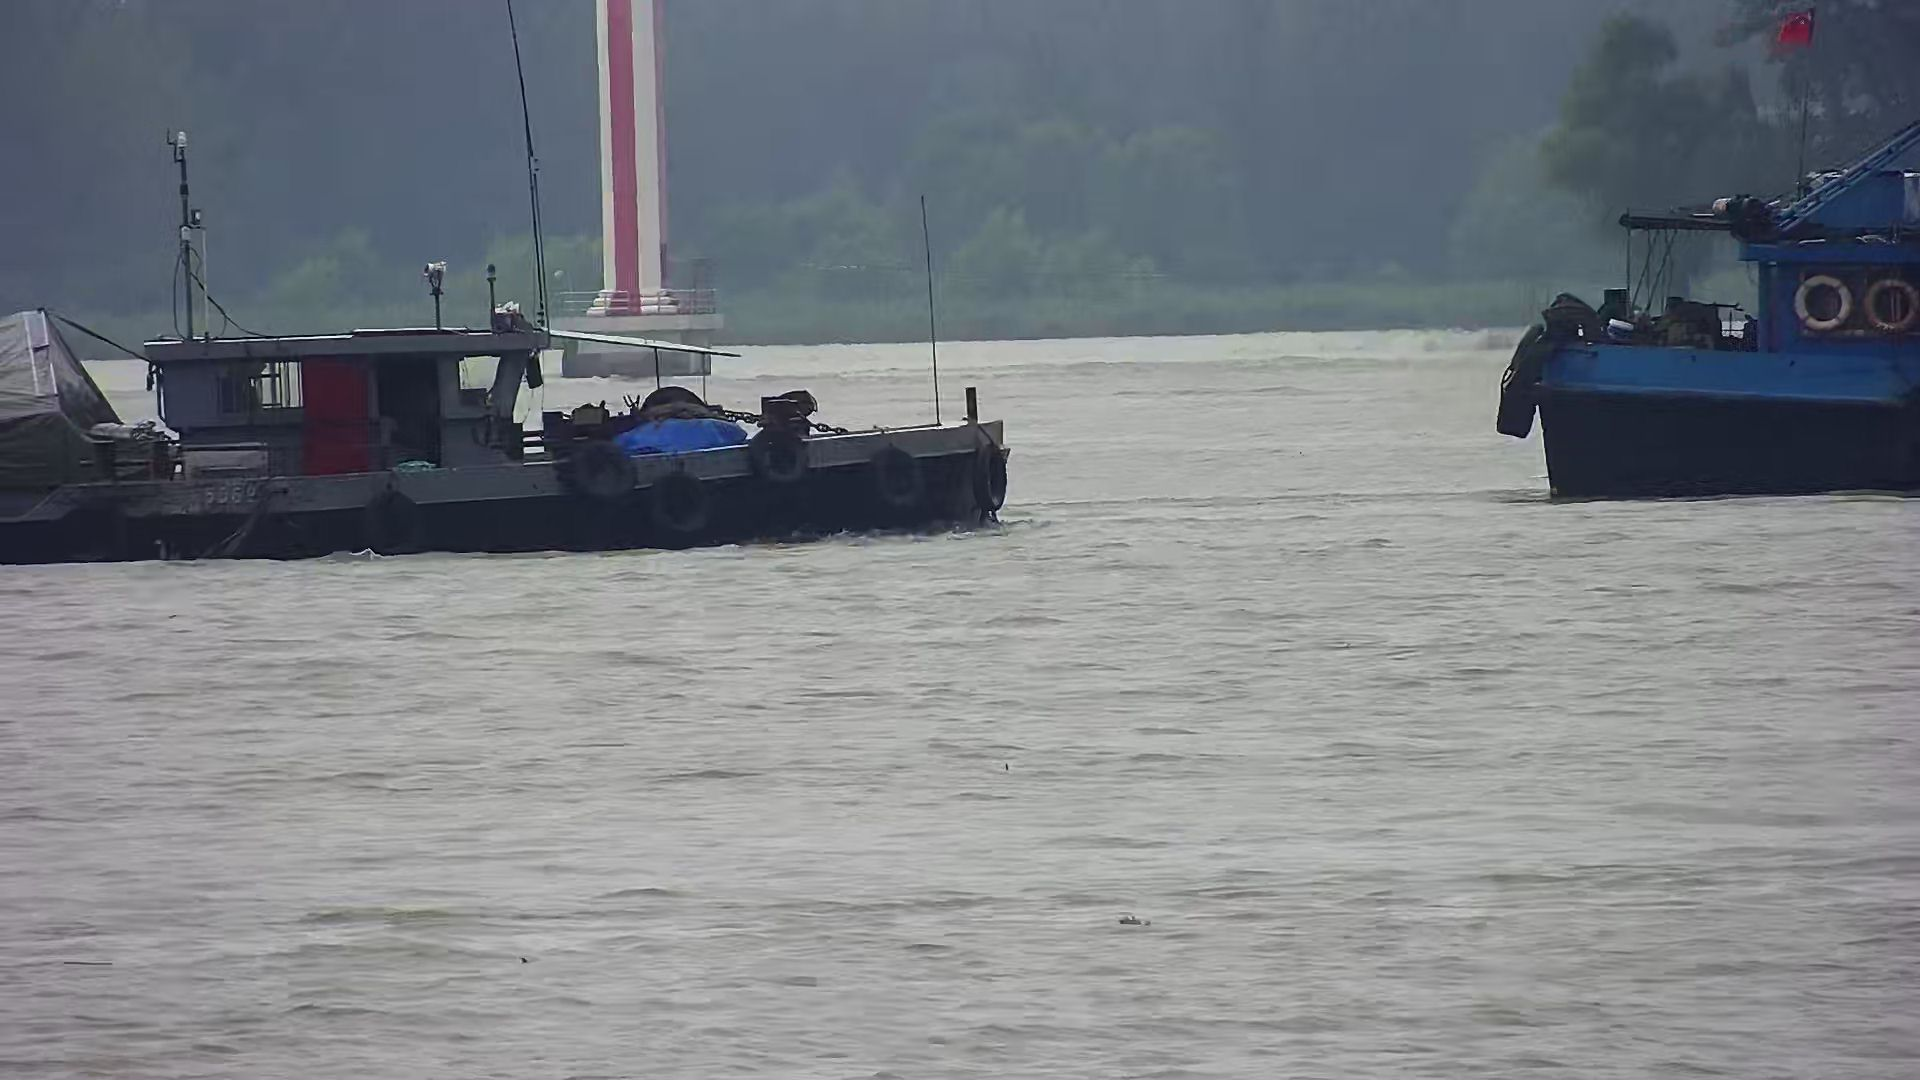platform: (539, 3, 727, 375)
ship: (1, 272, 1019, 563), (1490, 116, 1920, 498)
tree: (1535, 7, 1751, 299)
